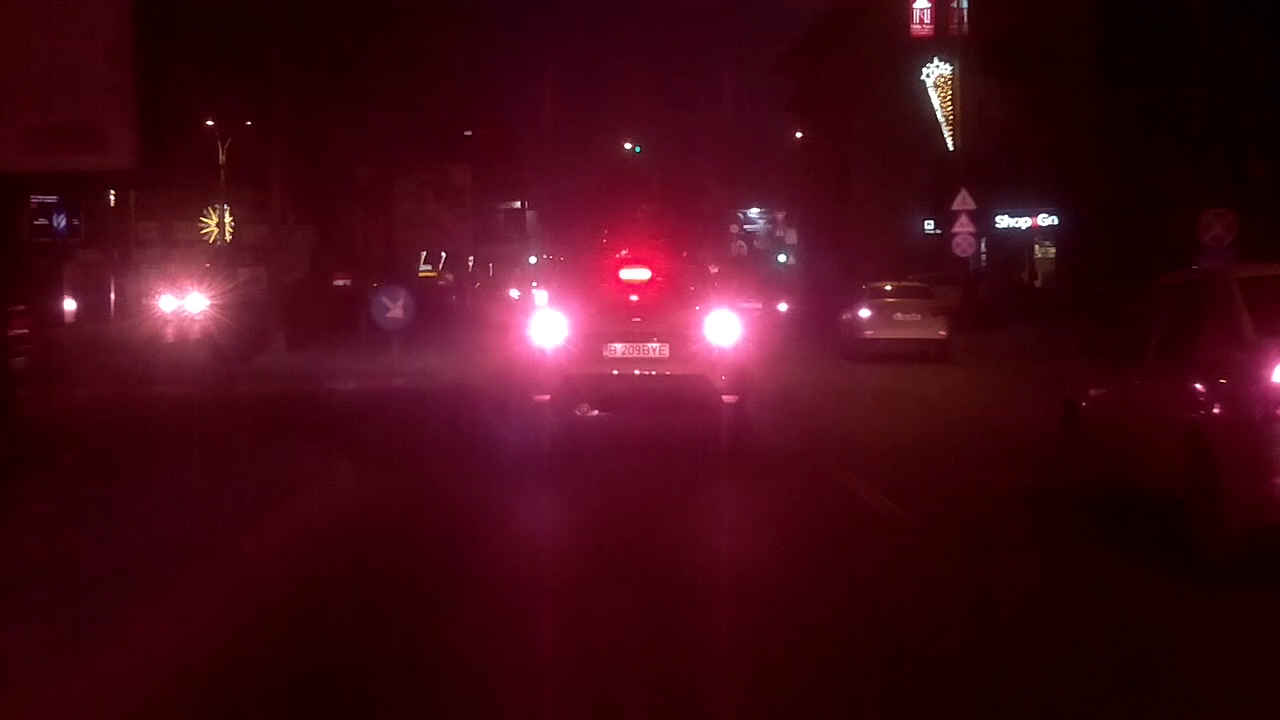license-plate: (599, 339, 672, 360)
